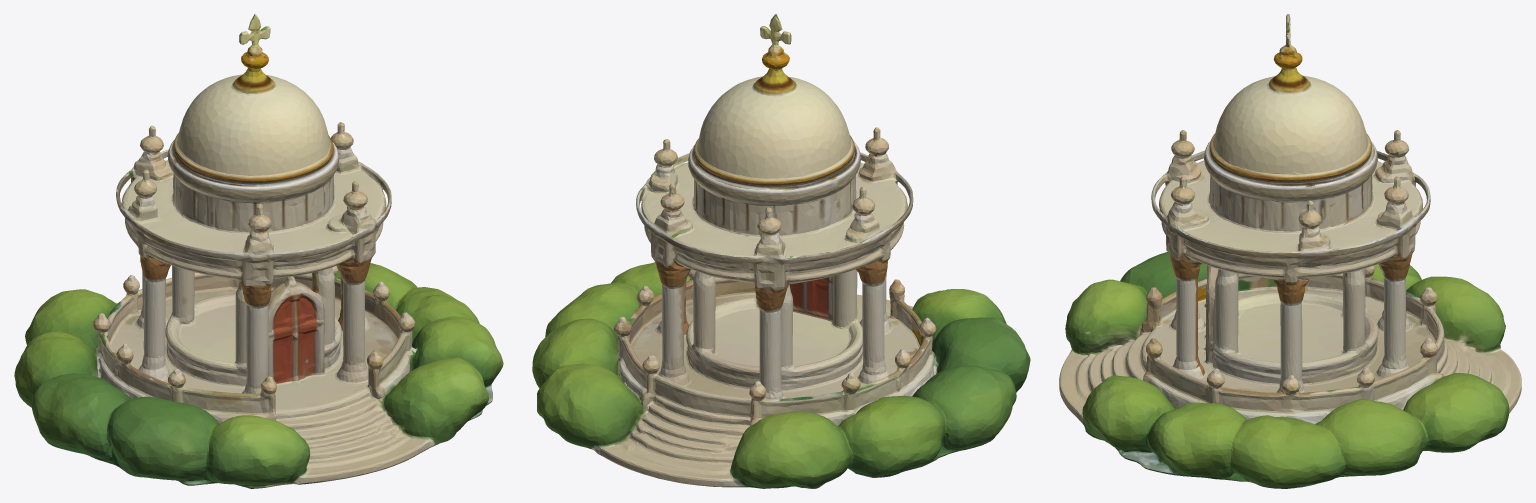
Rendered from ancient_ruin_stone_gazebo.glb.
3 renders of one model, left to right at view 1: azimuth 30°, elevation 25°; view 2: azimuth 150°, elevation 25°; view 3: azimuth 270°, elevation 25°, orthographic.
Parts seen in each view (by area): view 1: tmpks9hnsus.ply; view 2: tmpks9hnsus.ply; view 3: tmpks9hnsus.ply.
Boxes of the visible parts, x1=… form: tmpks9hnsus.ply: x1=14, y1=14, x2=503, y2=488; tmpks9hnsus.ply: x1=532, y1=14, x2=1030, y2=488; tmpks9hnsus.ply: x1=1059, y1=14, x2=1521, y2=488.
Bounding box in the file's own units: 1.99 × 1.65 × 1.85.
1 material, 1 textured.
